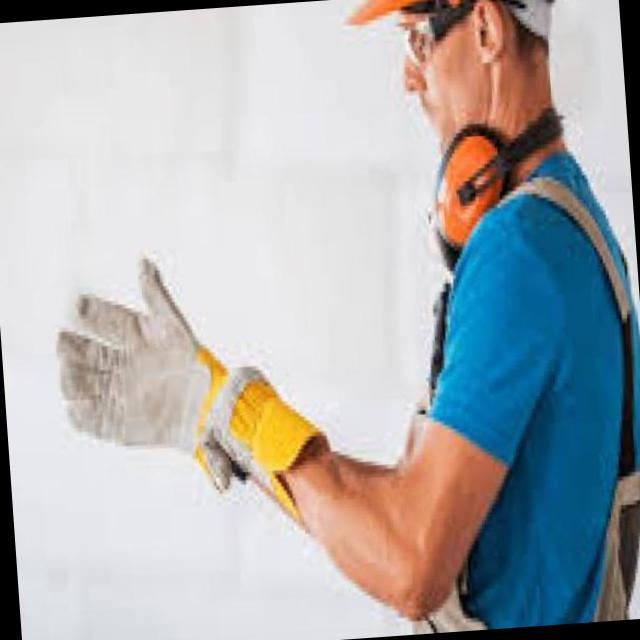gloved: (45, 236, 338, 542)
